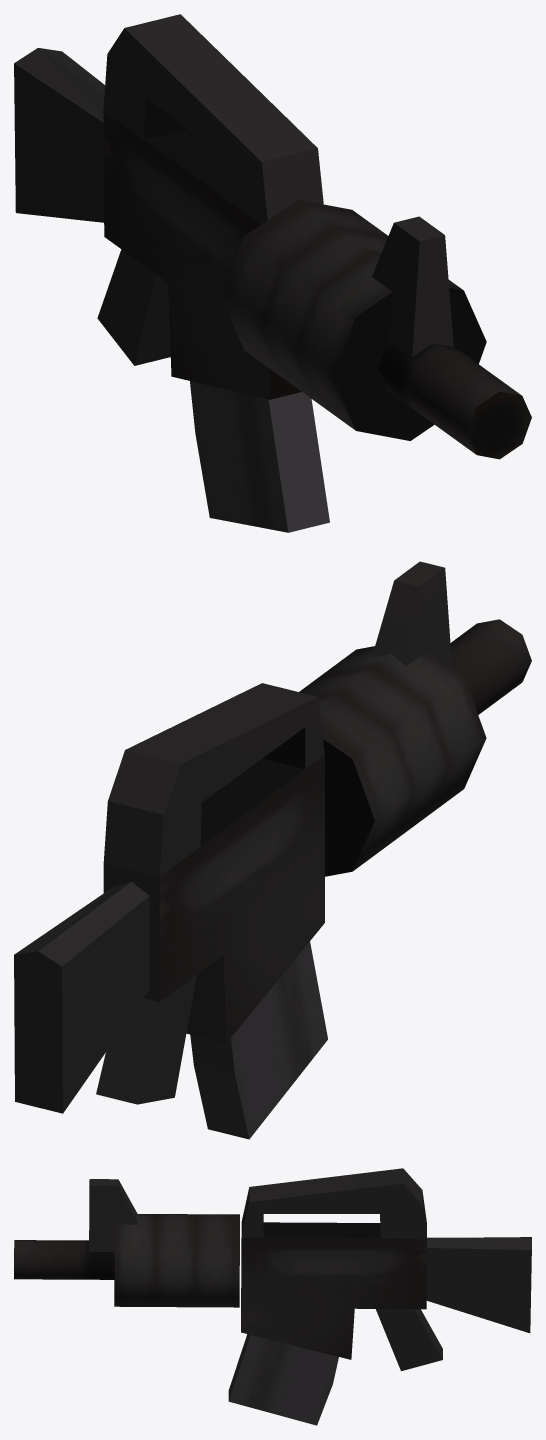
3 renders of one model, top to bottom at view 1: azimuth 30°, elevation 25°; view 2: azimuth 150°, elevation 25°; view 3: azimuth 270°, elevation 25°, orthographic. The views are drawn at different scales.
Visible parts, largest first — view 1: w_m4; view 2: w_m4; view 3: w_m4.
Boxes of the visible parts, x1=… form: w_m4: x1=14, y1=14, x2=531, y2=532; w_m4: x1=14, y1=561, x2=531, y2=1139; w_m4: x1=14, y1=1168, x2=531, y2=1425.
Bounding box in the file's own units: 7.7 × 20.88 × 40.18.
1 material, 1 textured.
